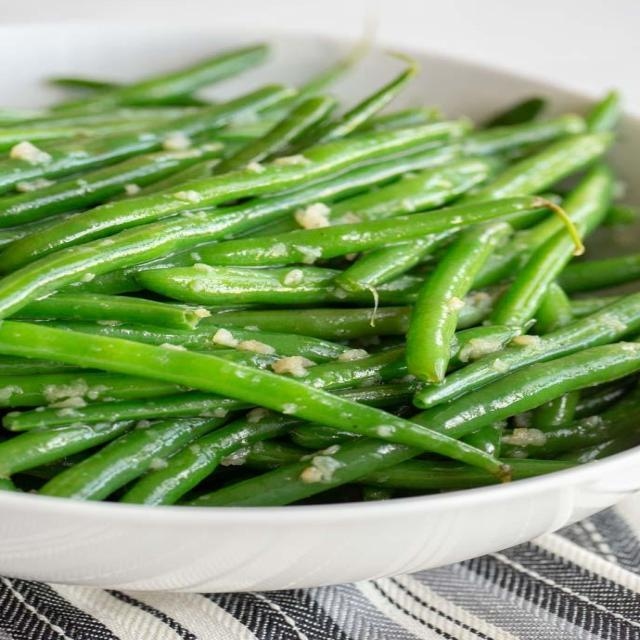Beans: (0, 42, 640, 503)
